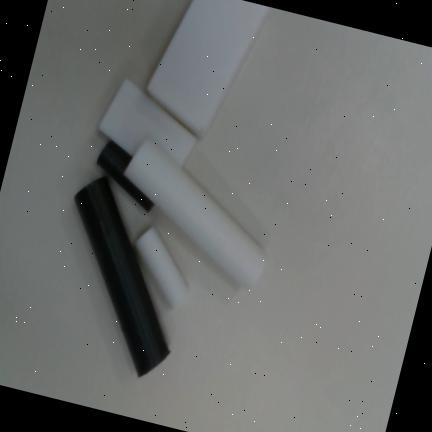Cilindro: (123, 138, 266, 288), (74, 177, 170, 376), (135, 225, 188, 307), (96, 139, 154, 213)
Paralelepipedo: (145, 0, 269, 138), (97, 76, 197, 170)
